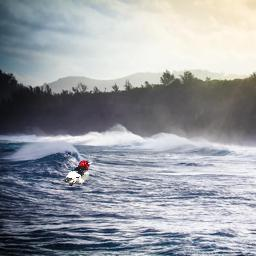Woodpecker: (63, 160, 96, 187)
